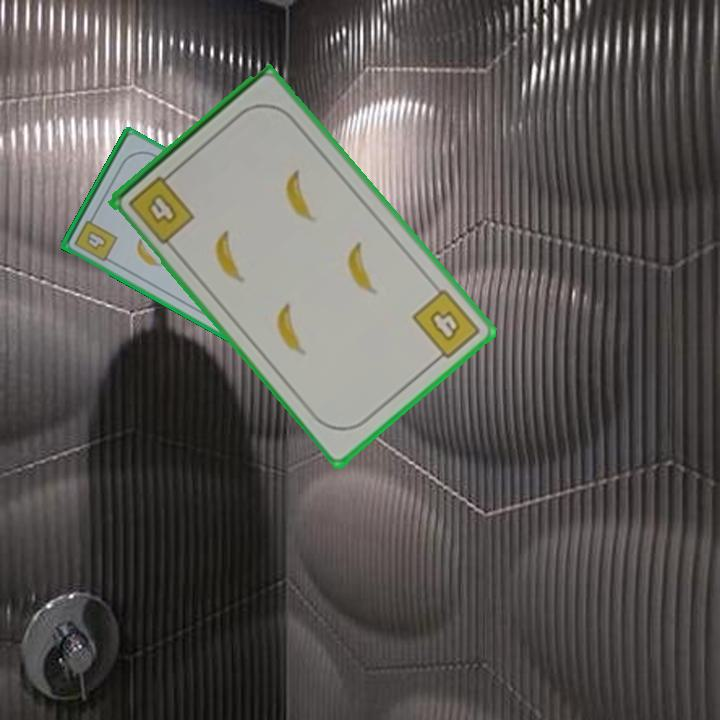4b: (408, 285, 484, 367), (124, 167, 198, 247), (71, 210, 120, 264)
